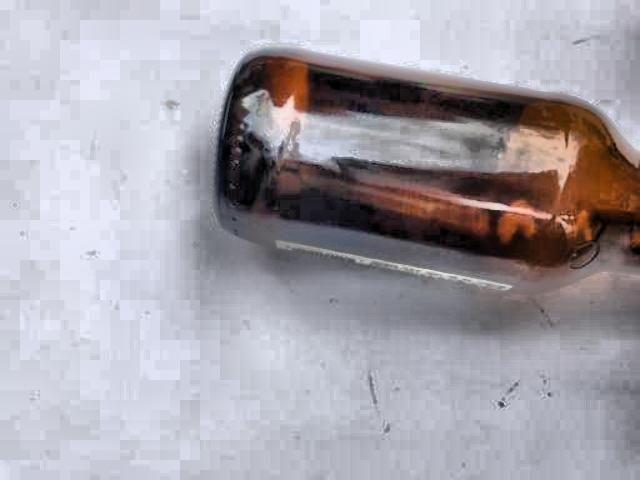Bottles: (207, 38, 636, 291)
